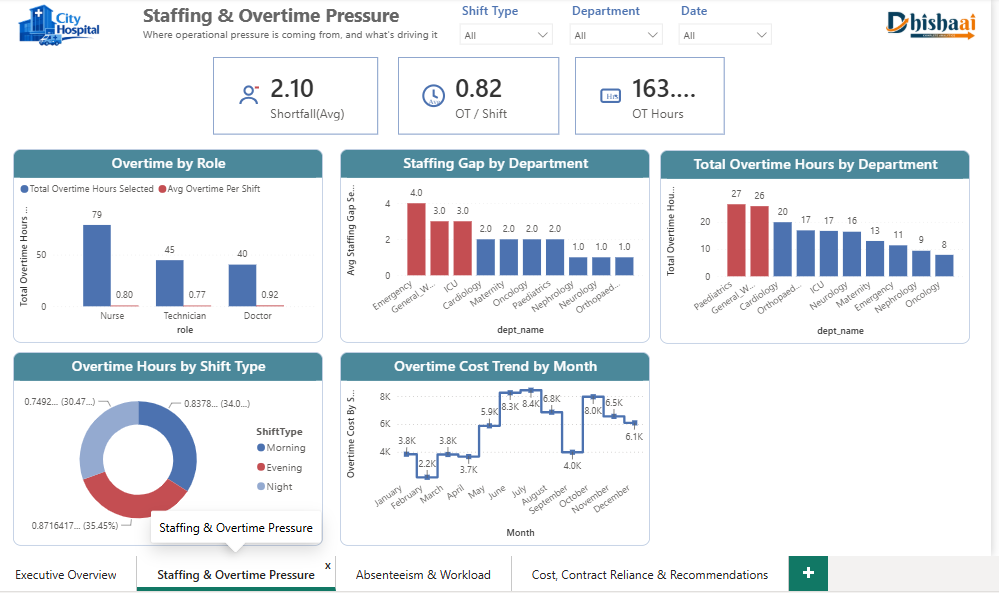

This screenshot's page, from the dashboard's own definition file:
{"tool":"powerbi","page":{"name":"Staffing & Overtime Pressure","canvas":[1280,720],"ordinal":1},"visuals":[{"type":"textbox","box":[180,0,1099.8,65.2],"z":0},{"type":"clusteredColumnChart","title":"Overtime by Role","fields":{"Category":["Dim_Role_Benchmark.role"],"Y":["SycTable.Total Overtime Hours Selected","SycTable.Avg Overtime Per Shift"]},"box":[18.3,195,400,250],"z":1},{"type":"donutChart","title":"Overtime Hours by Shift Type","fields":{"Category":["ShiftTypeSort.ShiftType"],"Y":["SycTable.Avg Overtime Per Shift"]},"box":[18.3,456.7,400,250],"z":2},{"type":"clusteredColumnChart","title":"Staffing Gap by Department","fields":{"Category":["Agg_Dept_Summary.dept_name"],"Y":["Agg_Dept_Summary.Avg Staffing Gap Select"]},"box":[440,195,400,250],"z":3},{"type":"lineChart","title":"Overtime Cost Trend by Month","fields":{"Y":["SycTable.Overtime Cost By ShiftType"],"Category":["Dim_Dates.full_date.Variation.Date Hierarchy.Month"]},"box":[440,456.7,400,250],"z":4},{"type":"cardVisual","fields":{"Data":["SycTable.Avg Staffing Gap Selected"]},"box":[276.4,76.5,213.3,100],"z":5},{"type":"cardVisual","fields":{"Data":["SycTable.Total Overtime Hours Selected"]},"box":[743,76.5,193.3,100],"z":6},{"type":"cardVisual","fields":{"Data":["SycTable.Avg Overtime Per Shift"]},"box":[514.7,76.5,208.3,100],"z":7},{"type":"slicer","fields":{"Values":["Agg_Dept_Summary.dept_name"]},"box":[727.1,0,140,65],"z":8},{"type":"slicer","fields":{"Values":["Agg_Staffing_Actual.shift_type"]},"box":[583.9,0,140,65.2],"z":9},{"type":"slicer","fields":{"Values":["Dim_Dates.full_date"]},"box":[867.4,0,140,65],"z":10},{"type":"image","box":[1138.1,8.5,131.8,53.9],"z":11},{"type":"clusteredColumnChart","title":"Total Overtime Hours by Department","fields":{"Y":["SycTable.Total Overtime Hours Selected"],"Category":["Agg_Dept_Summary.dept_name"]},"box":[852.9,195.7,400,250],"z":12},{"type":"image","box":[0,1.4,154.5,66.6],"z":13}]}

Visuals, with their boxes on the page's 1280x720 design canvas (x1, y1, x2, y2). These are canvas units, not pixel positions in the 999x593 screenshot, which may show the page scaled, cropped or inside an application window:
textbox: [180,0,1280,65]
"Overtime by Role" clusteredColumnChart: [18,195,418,445]
"Overtime Hours by Shift Type" donutChart: [18,457,418,707]
"Staffing Gap by Department" clusteredColumnChart: [440,195,840,445]
"Overtime Cost Trend by Month" lineChart: [440,457,840,707]
cardVisual - SycTable.Avg Staffing Gap Selected: [276,76,490,176]
cardVisual - SycTable.Total Overtime Hours Selected: [743,76,936,176]
cardVisual - SycTable.Avg Overtime Per Shift: [515,76,723,176]
slicer - Agg_Dept_Summary.dept_name: [727,0,867,65]
slicer - Agg_Staffing_Actual.shift_type: [584,0,724,65]
slicer - Dim_Dates.full_date: [867,0,1007,65]
image: [1138,8,1270,62]
"Total Overtime Hours by Department" clusteredColumnChart: [853,196,1253,446]
image: [0,1,154,68]
